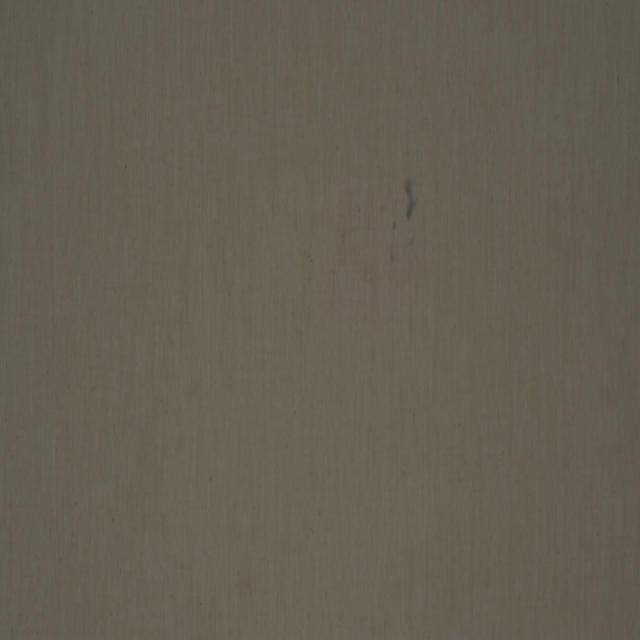dirty: (404, 178, 416, 221), (410, 237, 416, 249), (390, 246, 394, 262), (392, 222, 396, 232), (380, 206, 384, 215), (357, 207, 360, 214)
